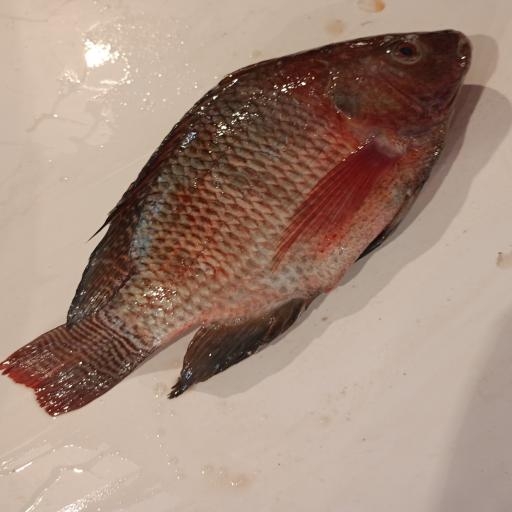Tilapia: (0, 30, 473, 416)
